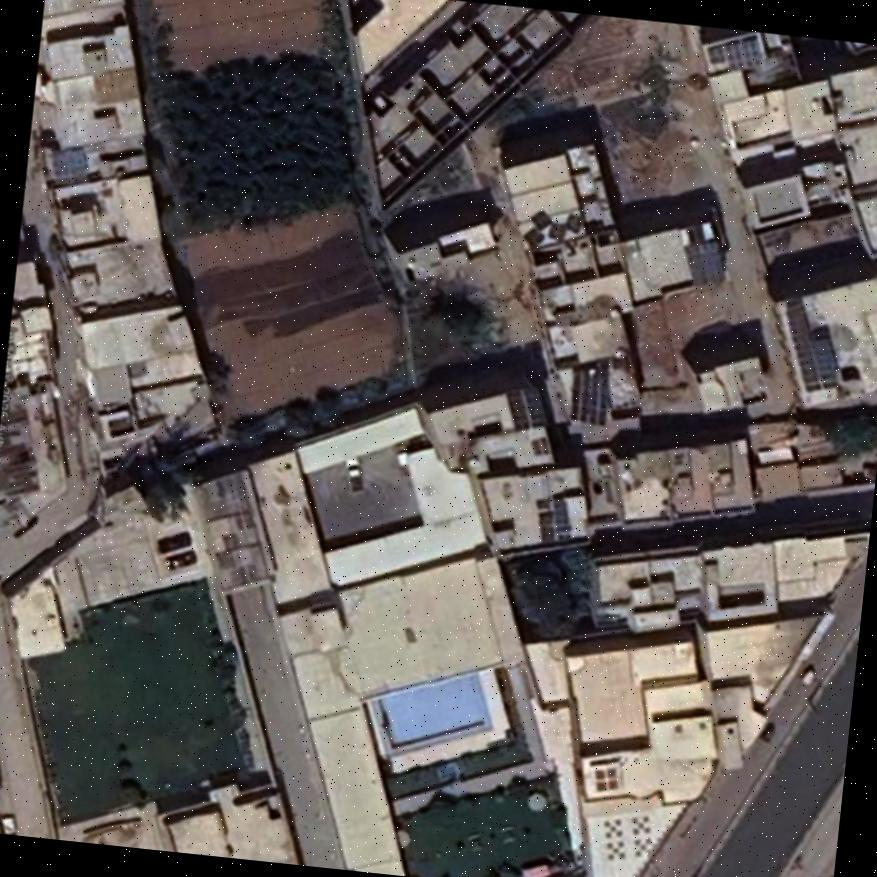Solarpanel: (789, 297, 845, 389), (568, 369, 607, 424), (686, 237, 724, 284), (507, 387, 545, 429), (727, 40, 759, 66)
